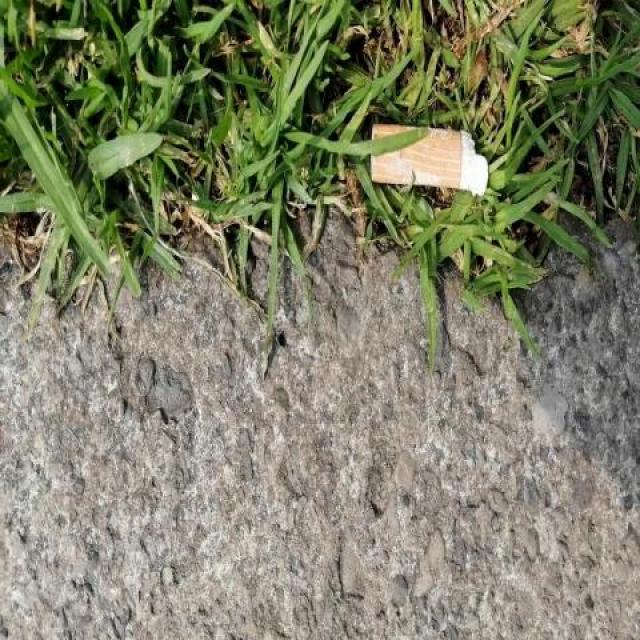non-organic waste: (367, 117, 490, 202)
